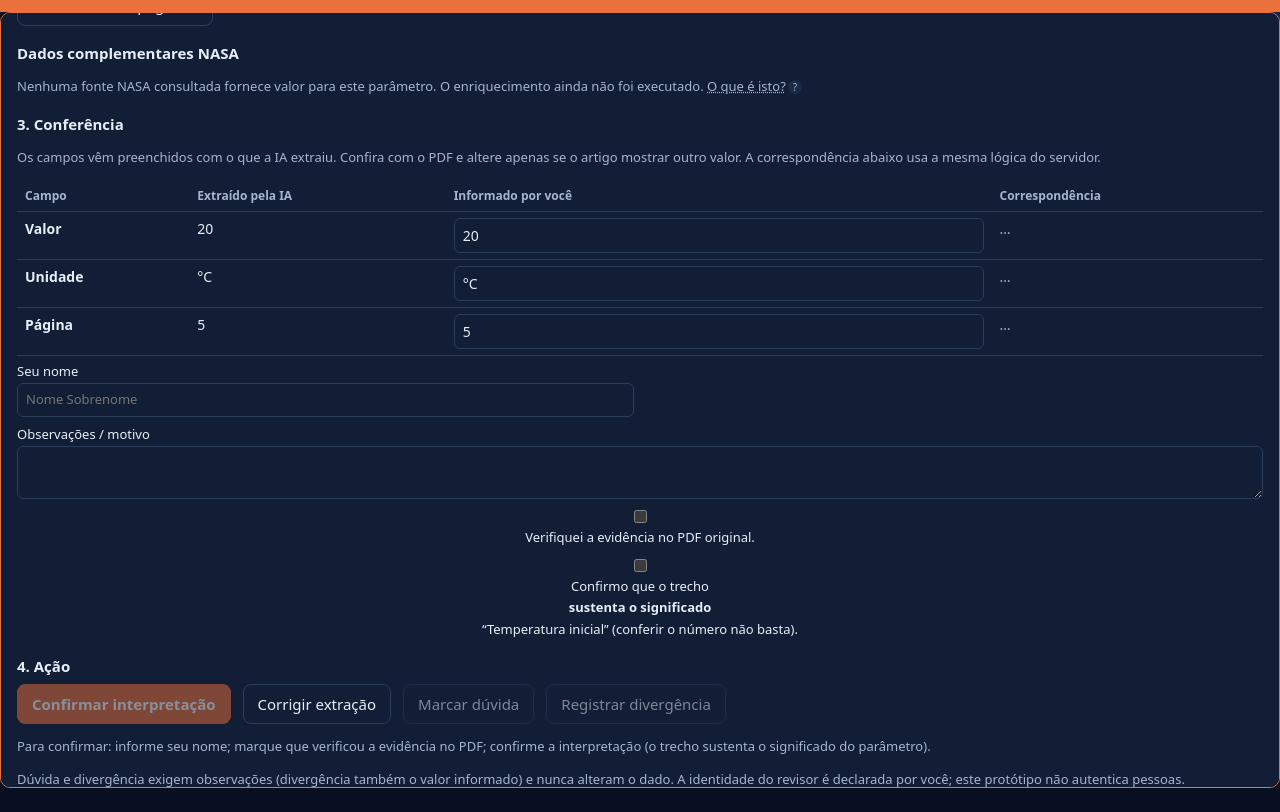
Test: C. conferência assistida (sem redigitar) › confirmar sem alterar os campos envia os valores extraídos e registra que não foram alterados
This screenshot has width=1280, height=812.
(page scrolled)
Type "Ana Souza" into the field labelled "Seu nome" at (326, 400), box [17, 383, 634, 416]
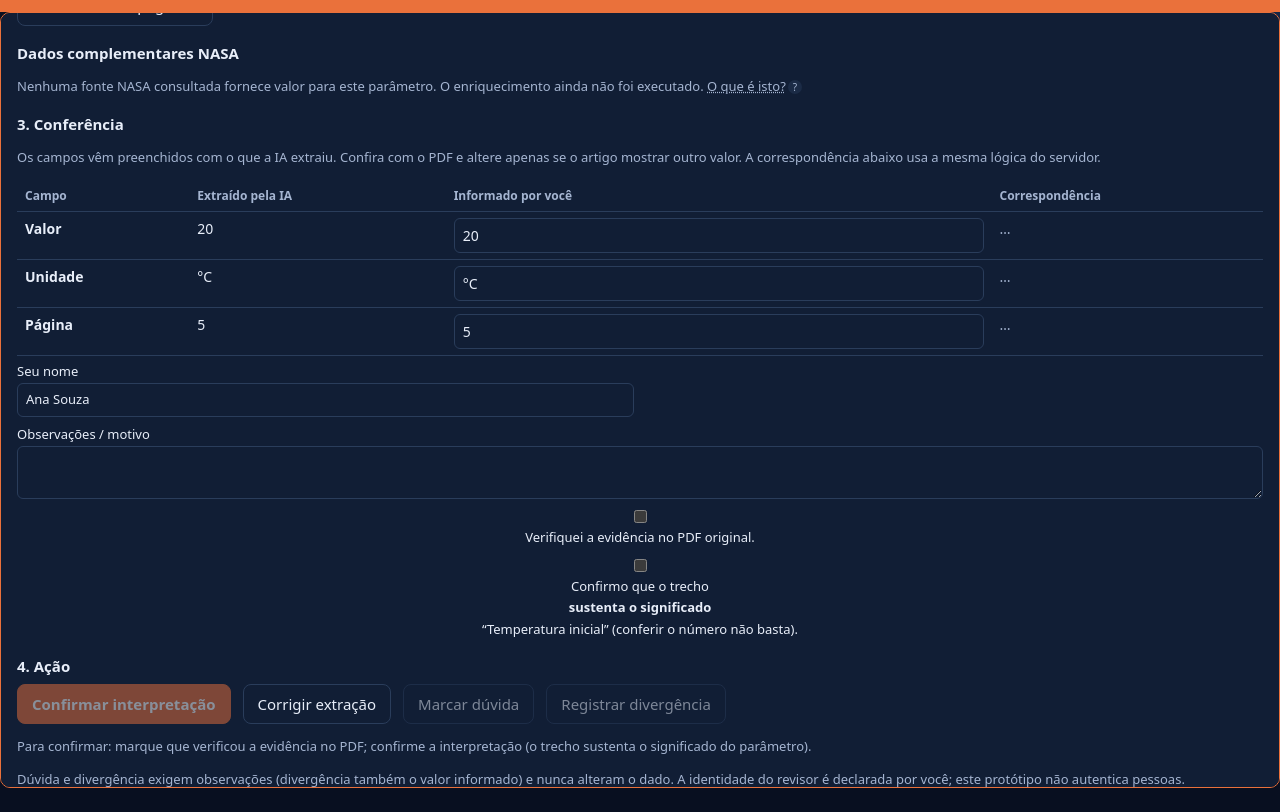
Click the checkbox labelled "Verifiquei a evidência no PDF original." at (640, 516), box [634, 510, 647, 523]
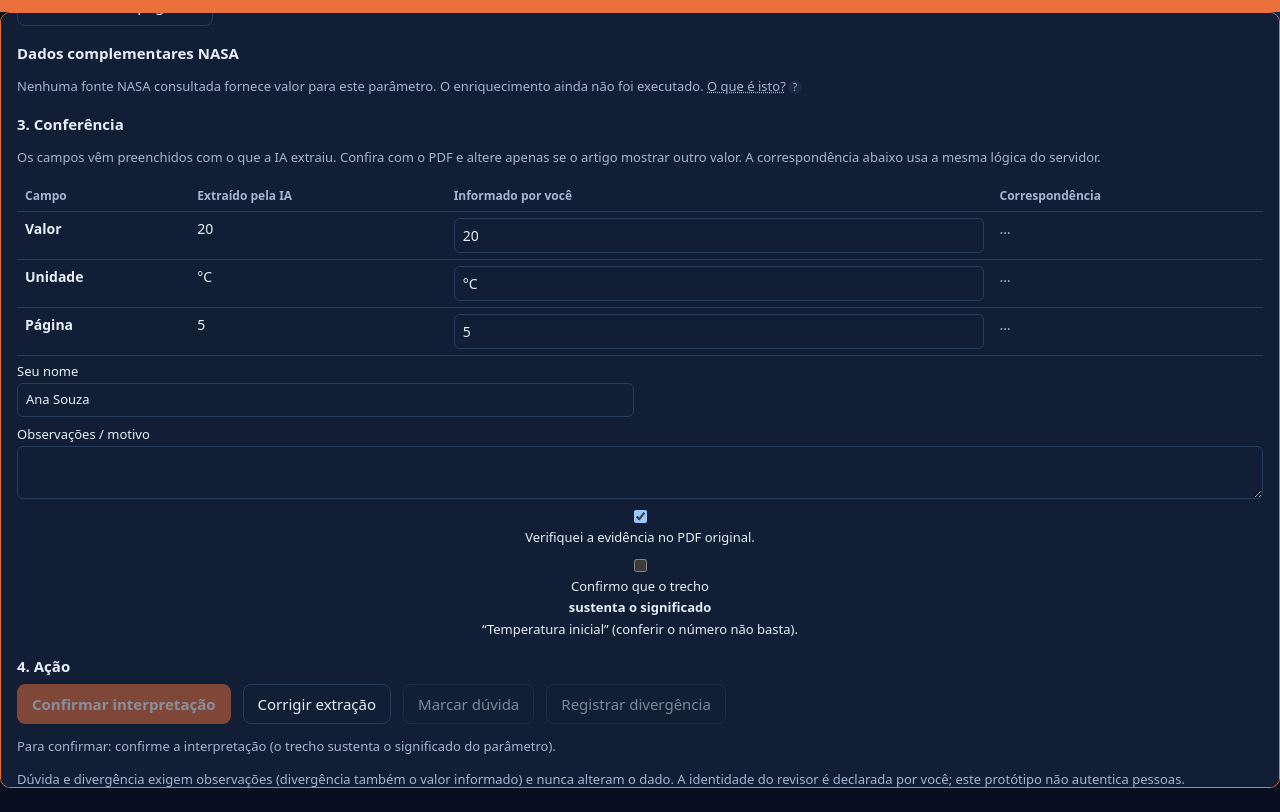
Click the checkbox labelled "Confirmo que o trecho" at (640, 565), box [634, 558, 647, 572]
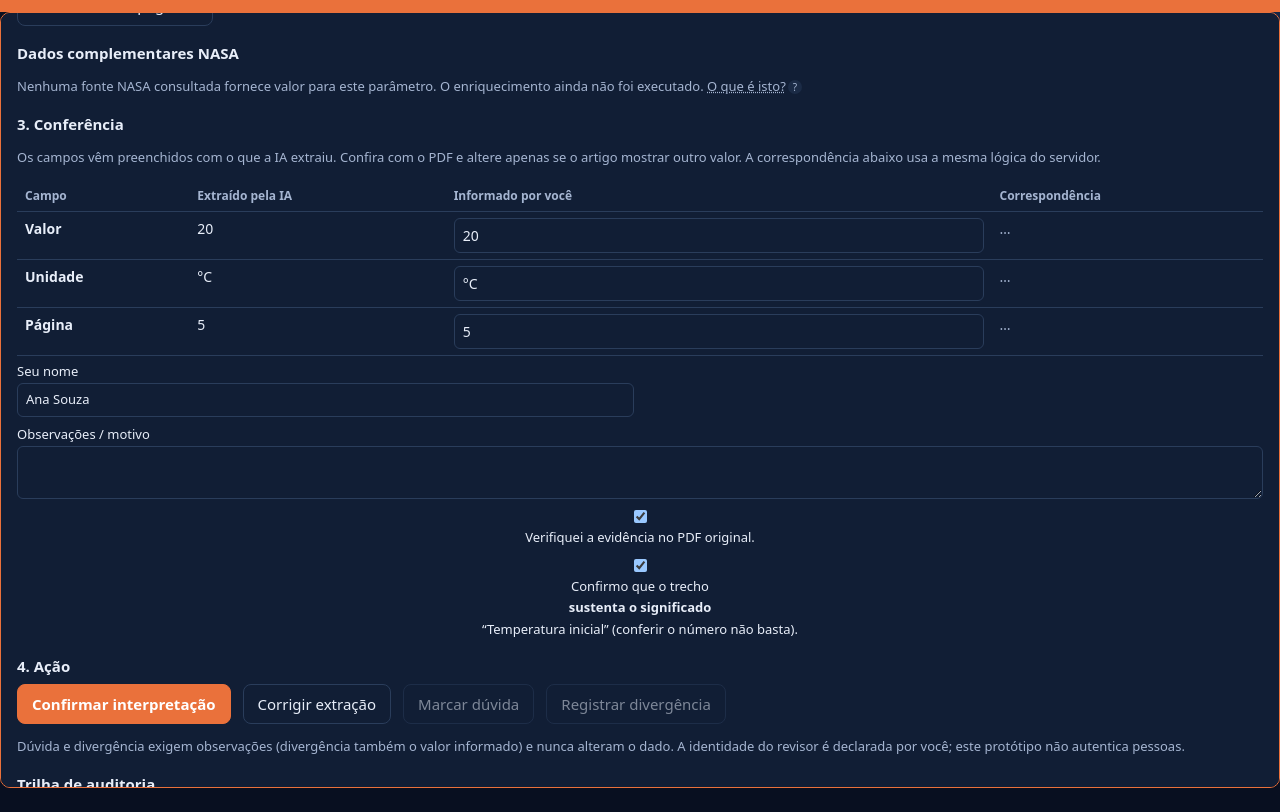
Check: the button "Confirmar interpretação" is enabled
Click the button "Confirmar interpretação" at (124, 704), box [17, 684, 230, 724]
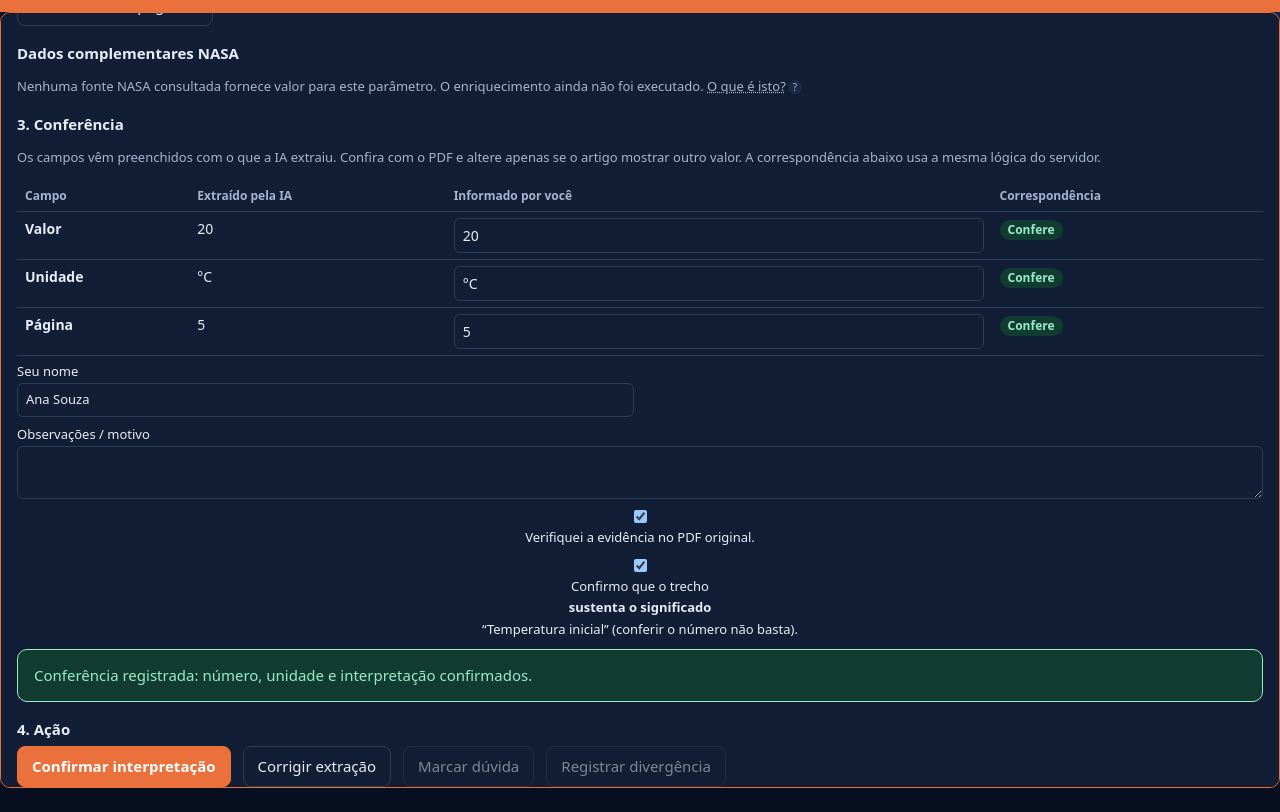
Check: the message shows "Conferência registrada", box [34, 665, 532, 685]
